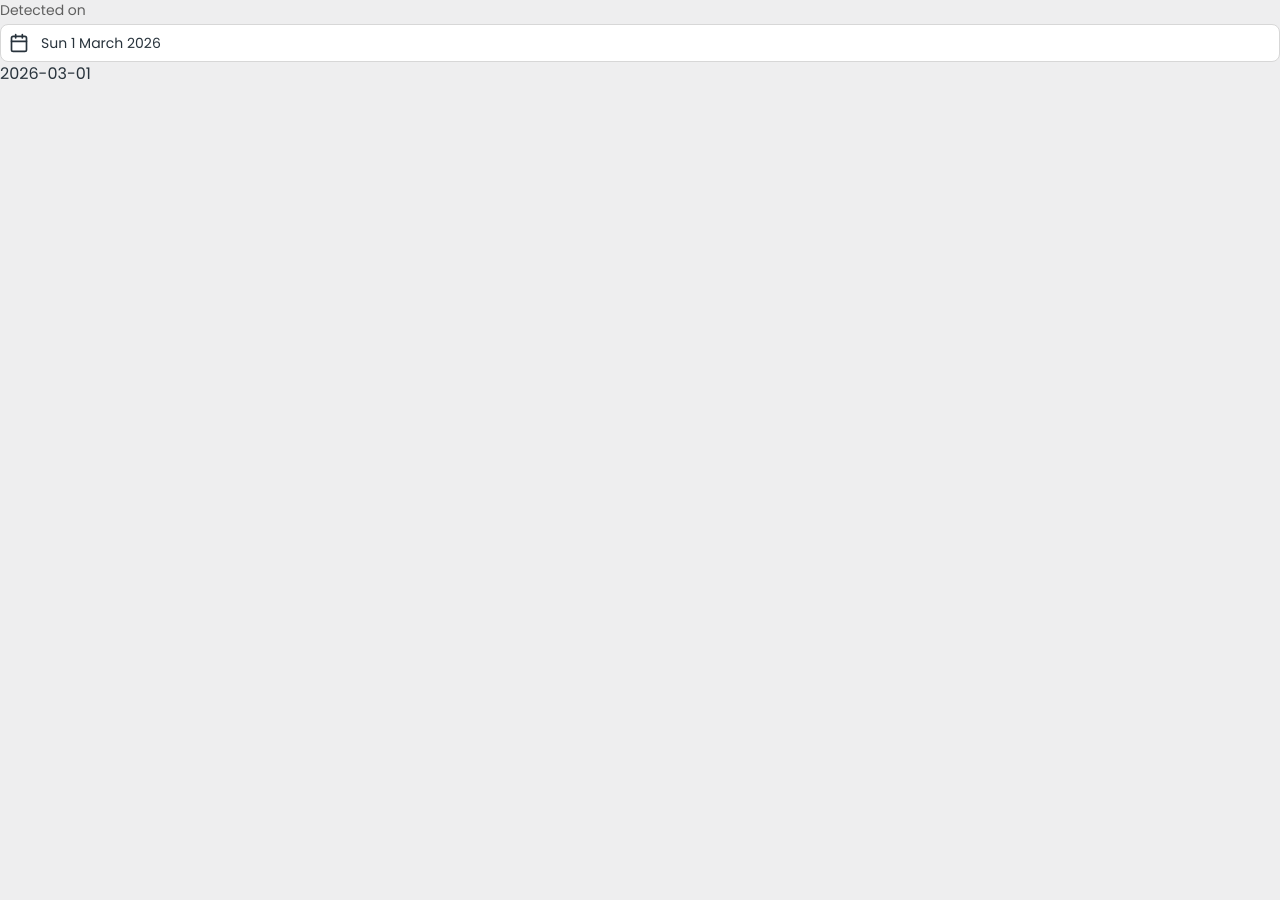
Scenario: RHFDatePickerPopout › reads and writes ISO dates without shifting the day
Click the button named "Detected on" at (101, 43), box [0, 24, 1279, 62]
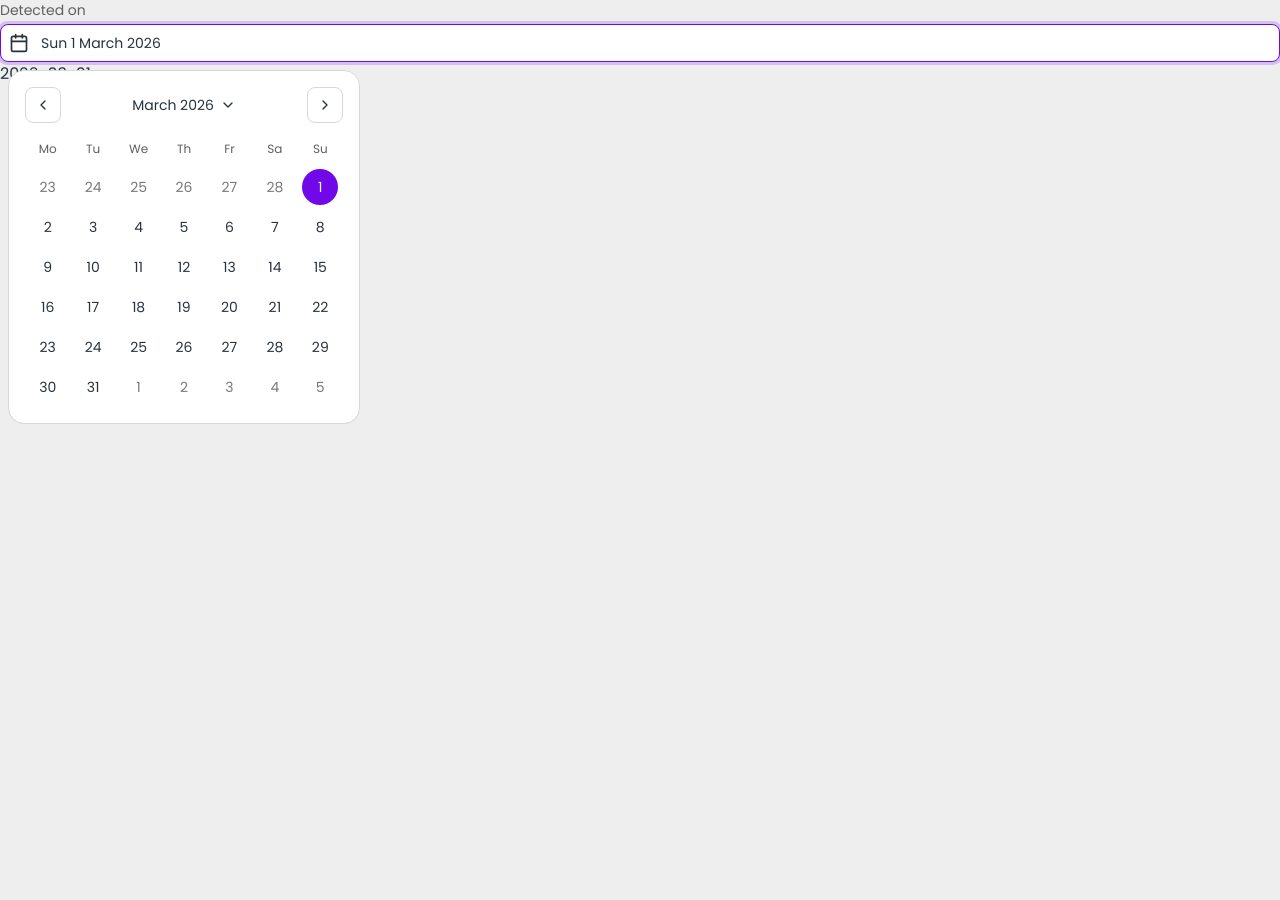
Click the button named "Next month" at (325, 105), box [307, 87, 343, 123]
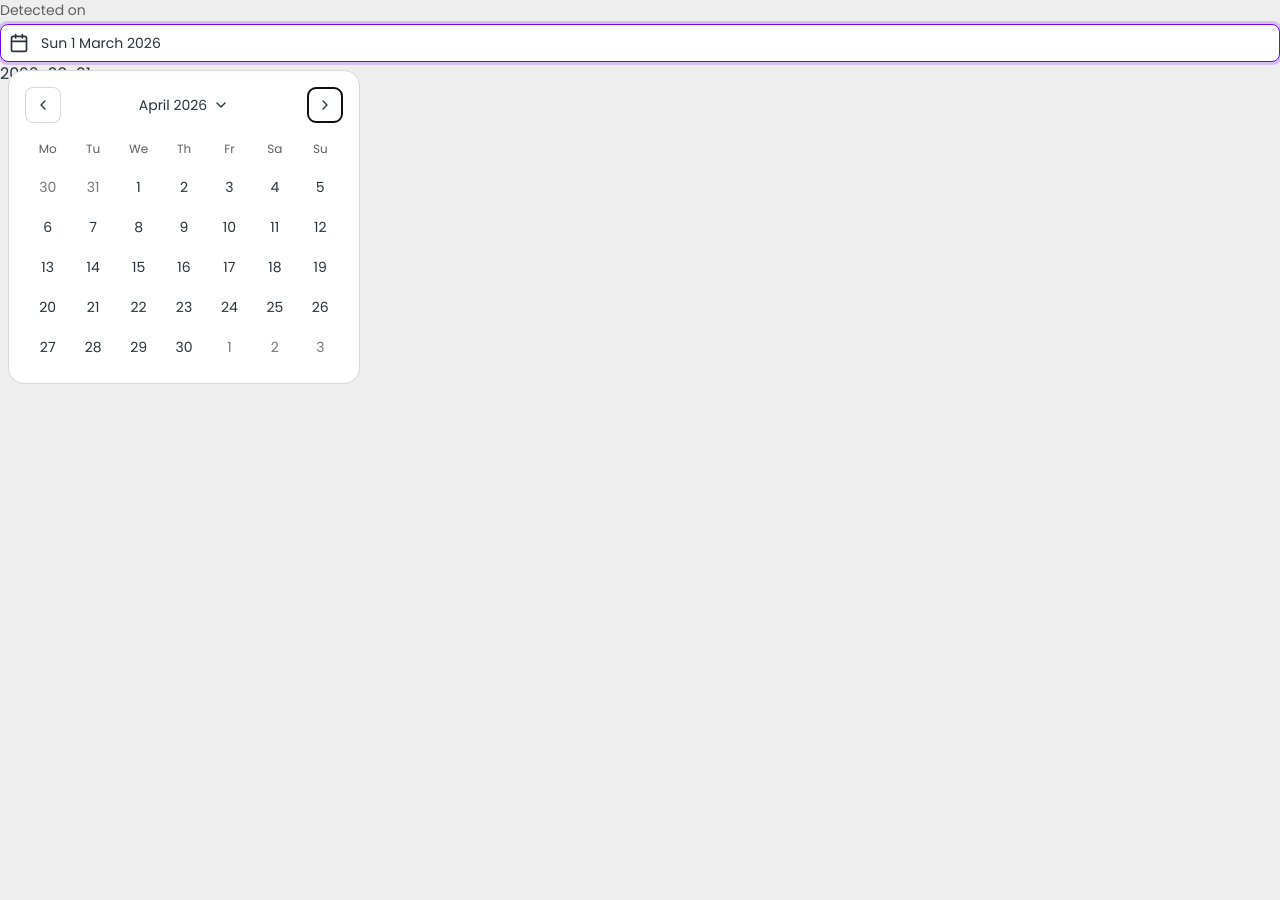
Click the button named "Wednesday 15 April 2026" at (139, 267), box [121, 249, 157, 285]
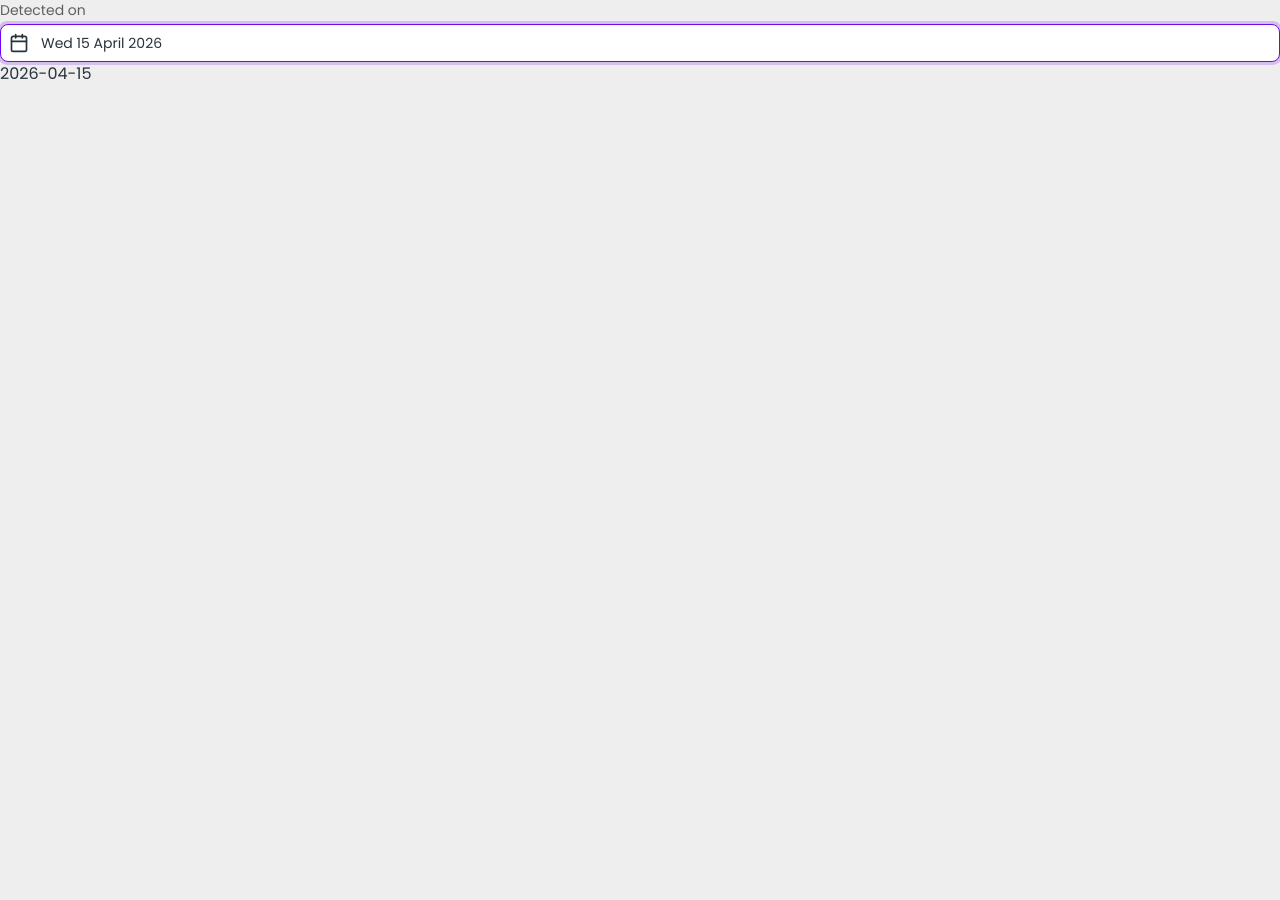
Expected: the text "2026-04-15" is shown, [0, 62, 92, 85]
Expected: the dialog is gone
